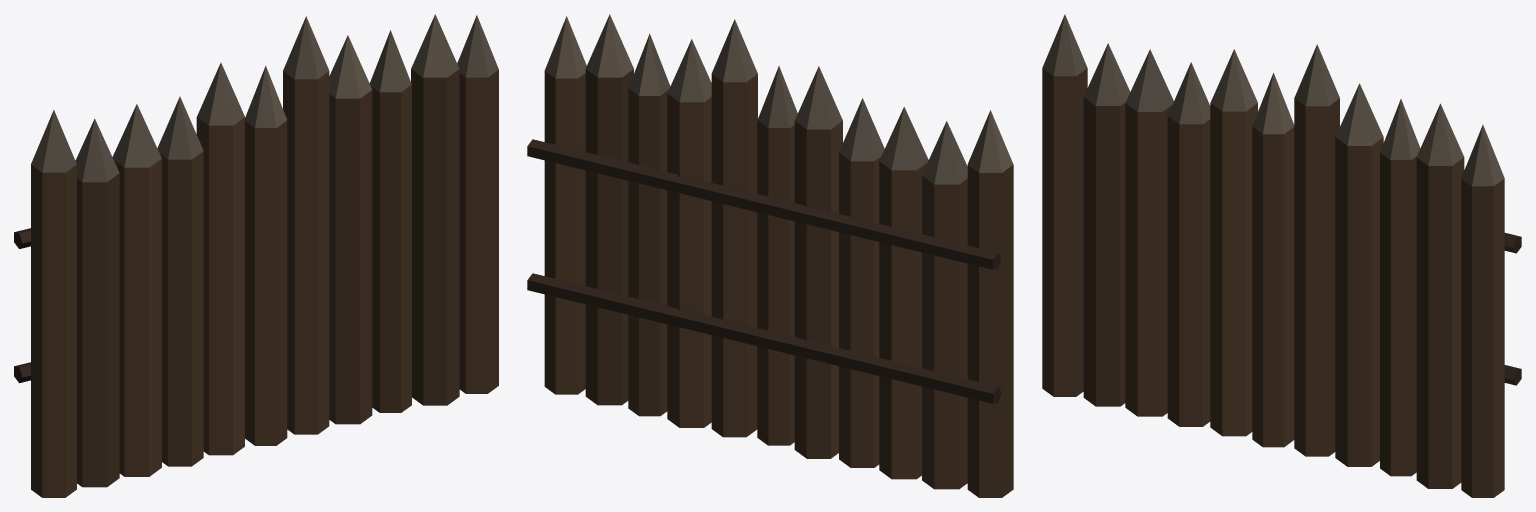
Rendered from palisade.glb.
3 views of the same model, side by side, from view 1: azimuth 30°, elevation 25°; view 2: azimuth 150°, elevation 25°; view 3: azimuth 330°, elevation 25° (orthographic).
Parts seen in each view (by area): view 1: palisade; view 2: palisade; view 3: palisade.
Part boxes in pixels (<box>): palisade: <box>14,14,498,497</box>; palisade: <box>527,14,1013,497</box>; palisade: <box>1042,14,1521,497</box>.
Size of the model in its own units: 4 by 3.37 by 0.4618.
1 material, 1 textured.
